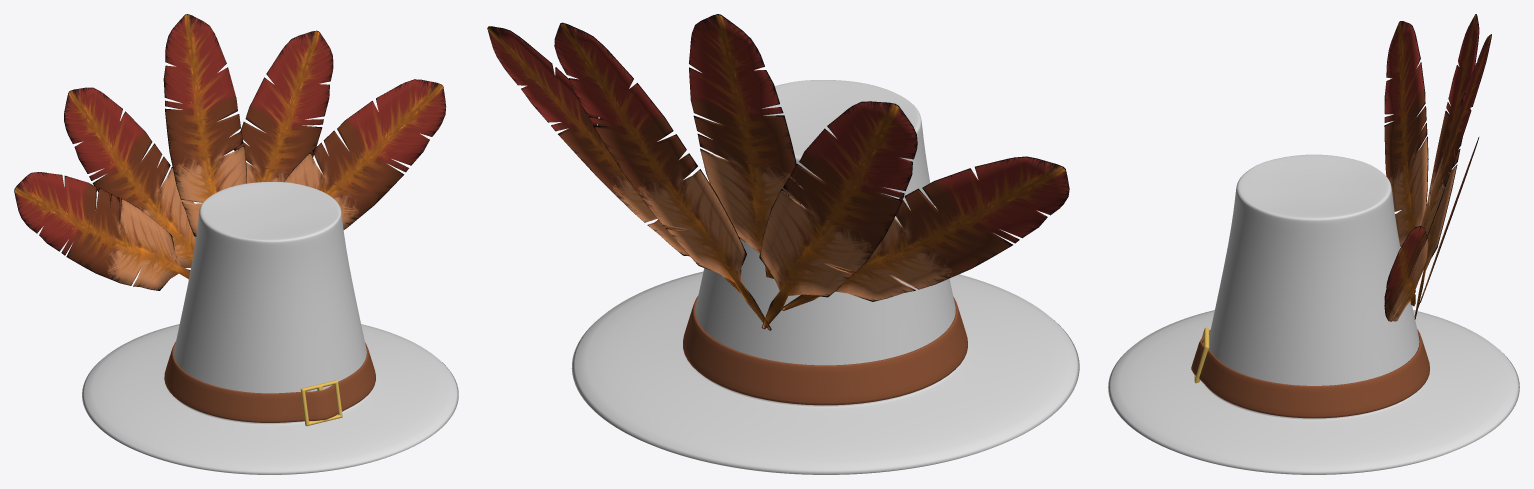
Rendered from ThanksGiven01.fbx.
3 views of the same model, side by side, from view 1: azimuth 30°, elevation 25°; view 2: azimuth 150°, elevation 25°; view 3: azimuth 270°, elevation 25° (orthographic). The views are drawn at different scales.
Parts seen in each view (by area): view 1: Hat, feathers, belt, buckle; view 2: feathers, Hat, belt; view 3: Hat, feathers, belt.
Part boxes in pixels (x1,y1,x2,y2): Hat: (82,182,458,474); feathers: (14,14,446,290); belt: (164,341,375,422); buckle: (300,380,342,426); feathers: (487,14,1069,330); Hat: (571,80,1079,474); belt: (683,296,967,405); Hat: (1108,154,1519,474); feathers: (1384,14,1491,321); belt: (1191,329,1429,418).
Bounding box in the file's own units: 98.64 × 71.27 × 75.02.
